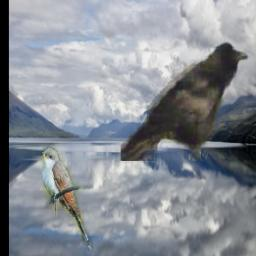Crow: (121, 40, 250, 162)
Cuckoo: (42, 146, 93, 252)
